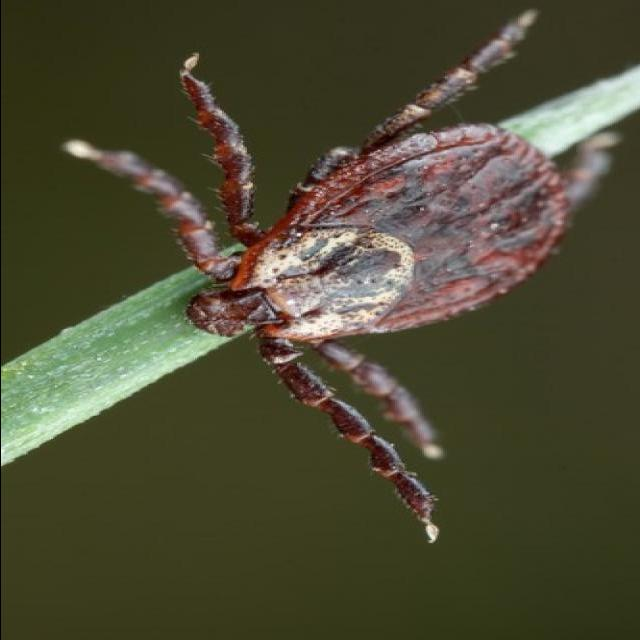Dermacentor Reticulatus-F: (60, 8, 619, 541)
